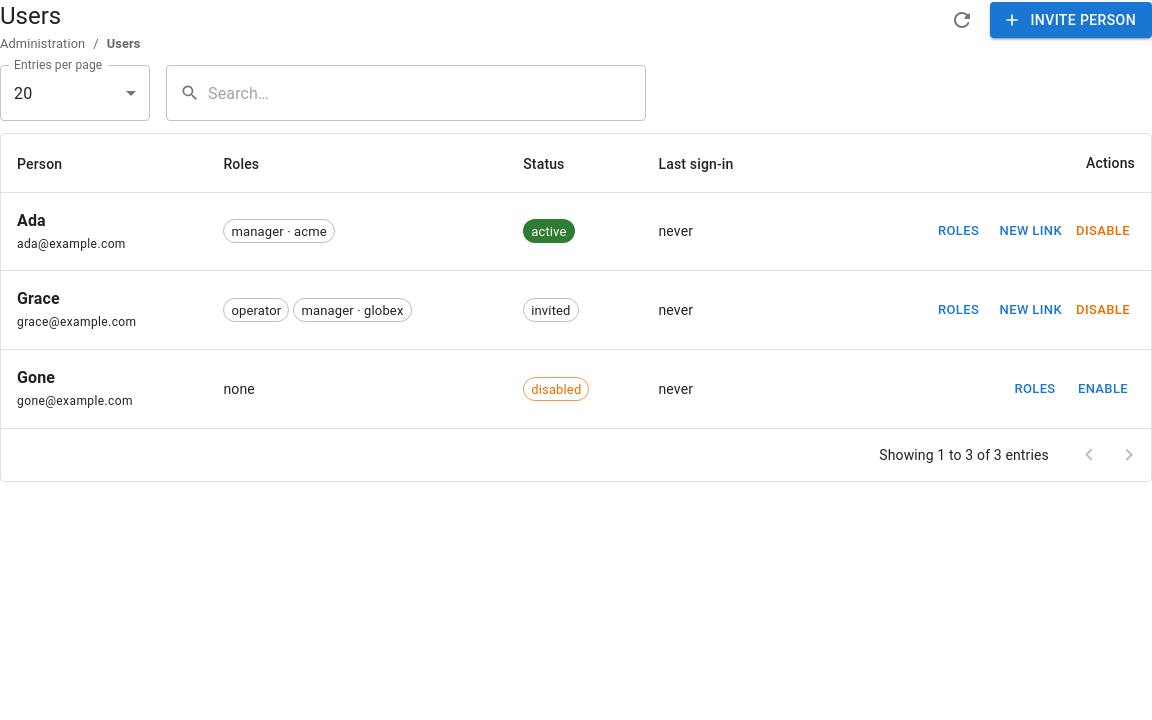
Test case: UsersPage › inviting › shows the reason when the person cannot be created and keeps the form
This screenshot has width=1152, height=720.
Step 1. Click the button "Invite person" → (1071,20), box [990,2,1151,38]
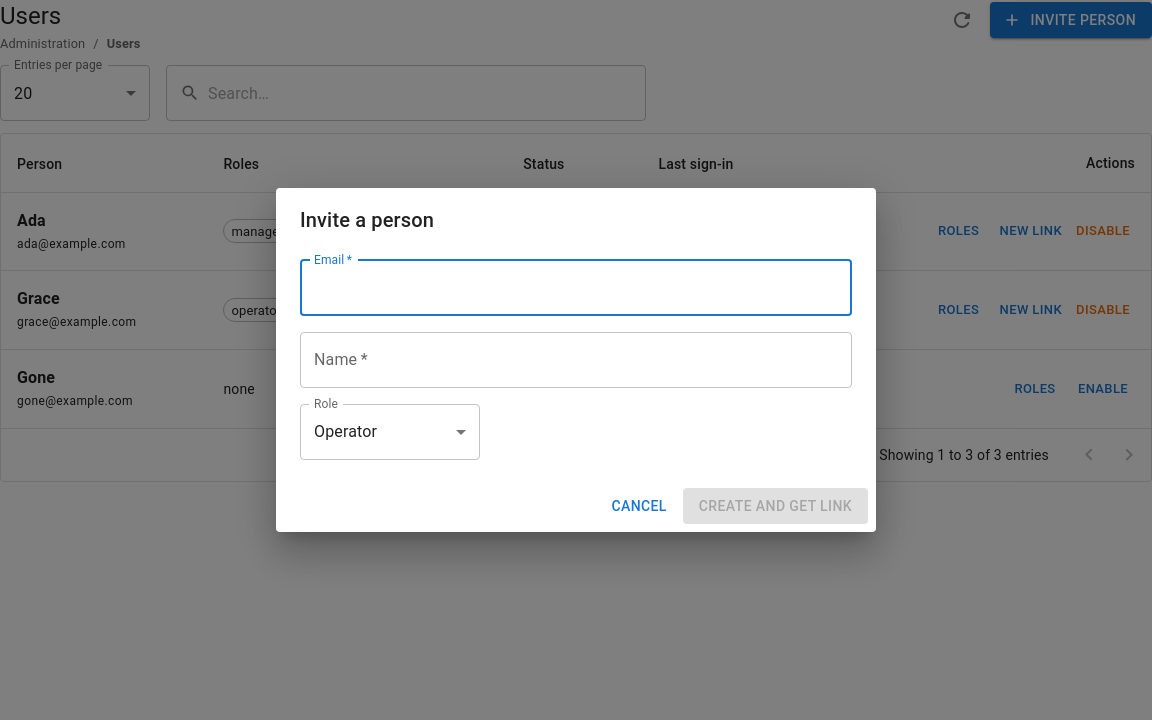
Step 2. Type "new@example.com" into the field labelled "Email *" → (576,288), box [300,260,852,316]
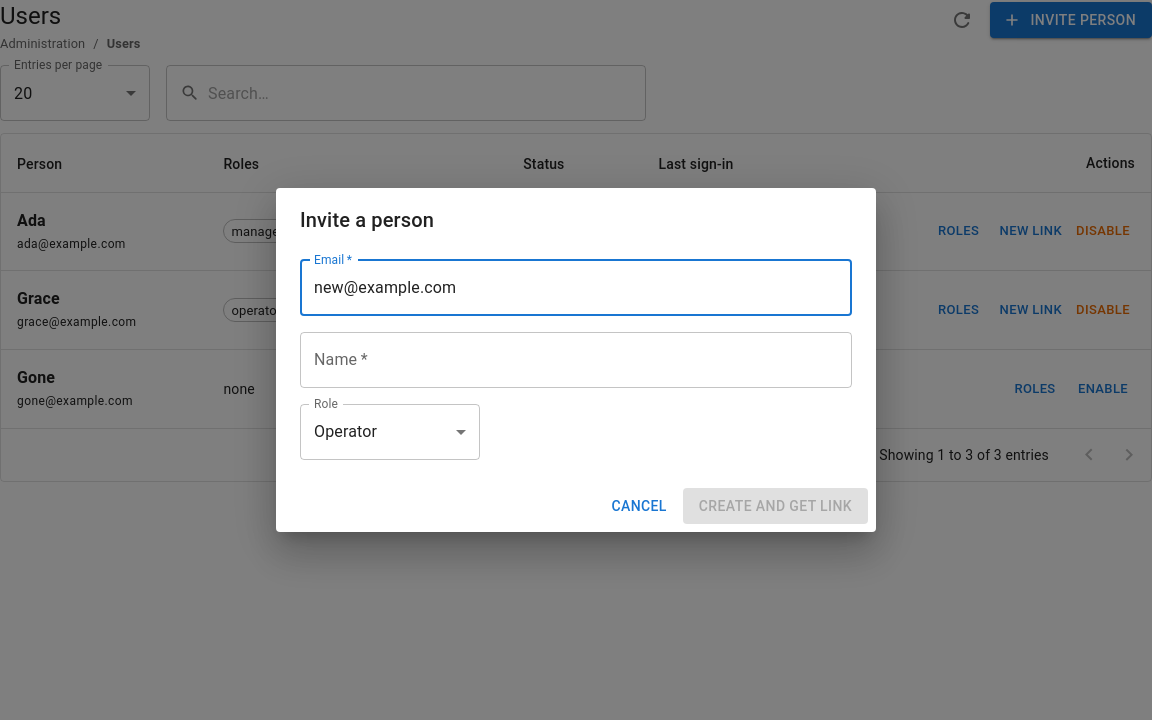
Step 3. Type "Nora" into the field labelled "Name *" → (576,360), box [300,332,852,388]
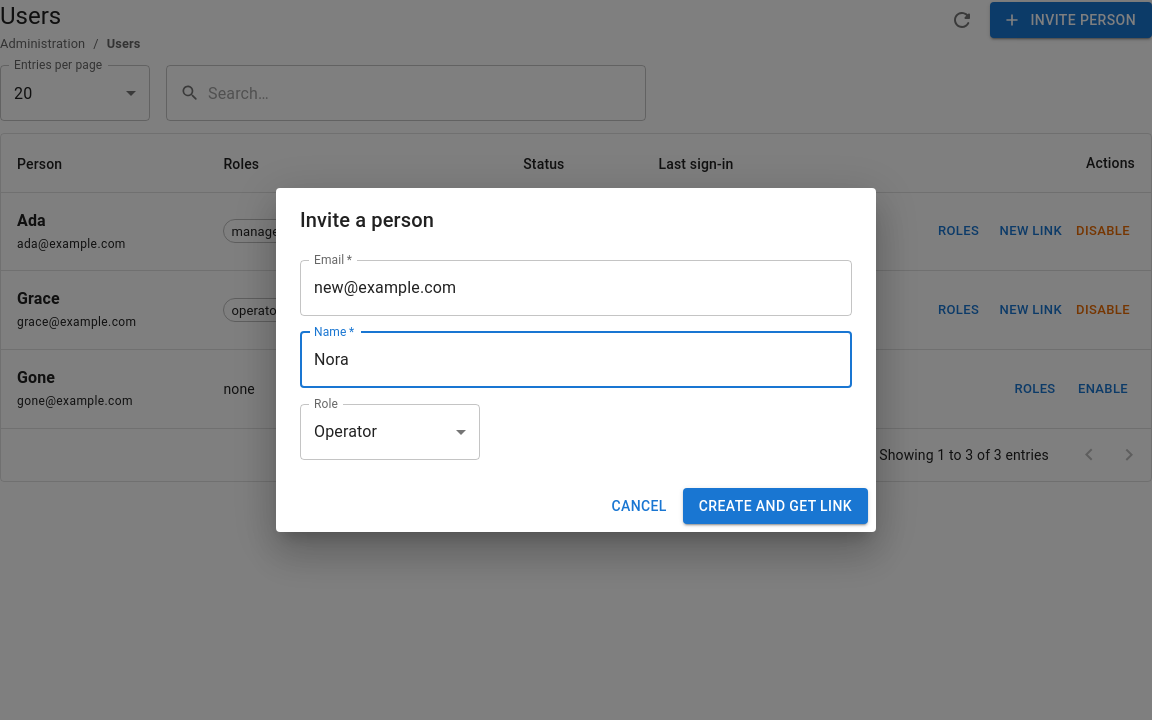
Step 4. Click the button "Create and get link" → (775,506), box [683,488,868,524]
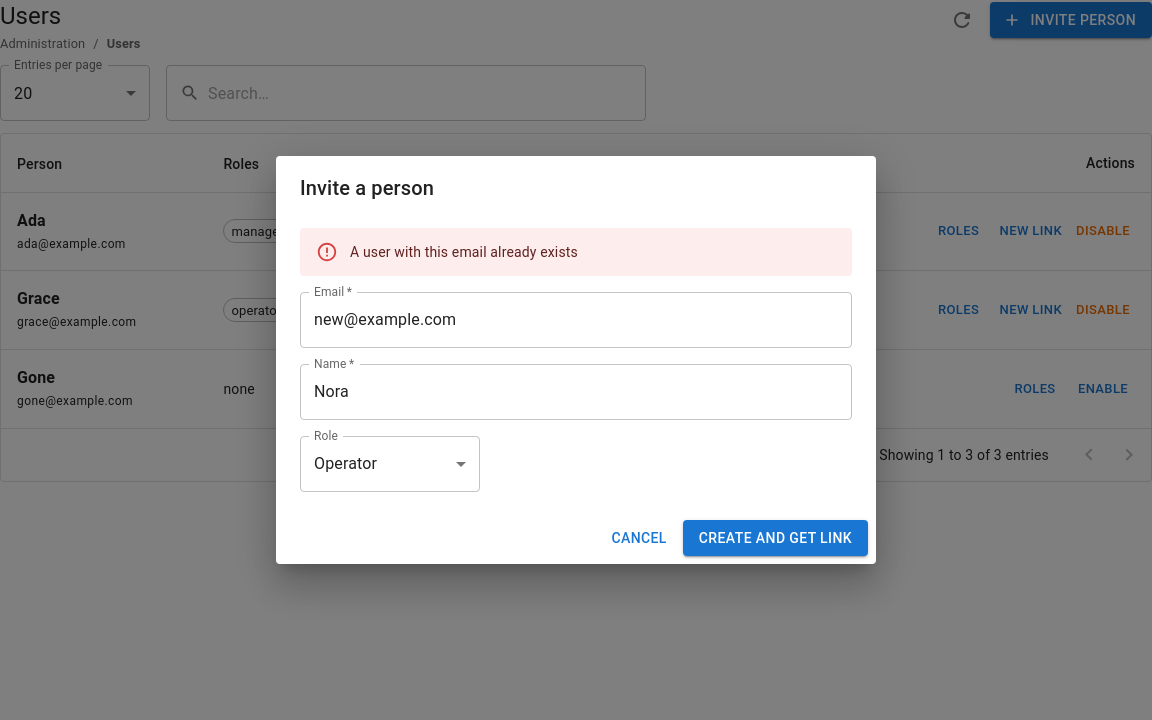
Check: the text "A user with this email already exists" is shown, box [350,244,578,260]
